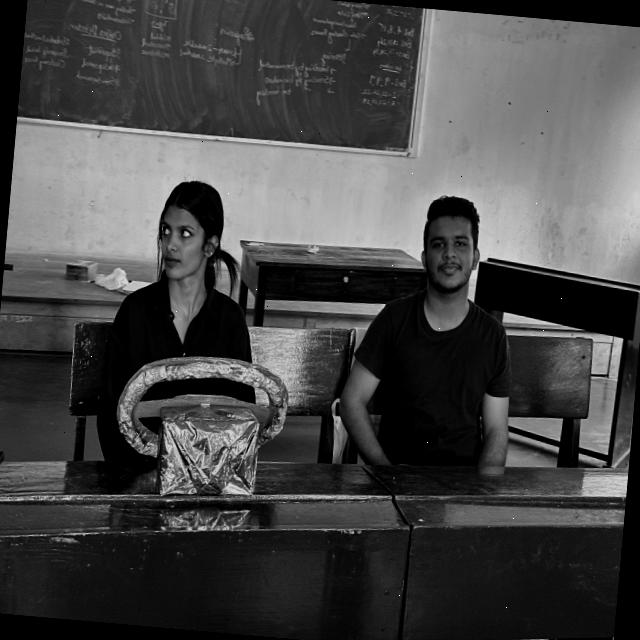no-seatbelt: (338, 288, 524, 476), (87, 276, 263, 474)
